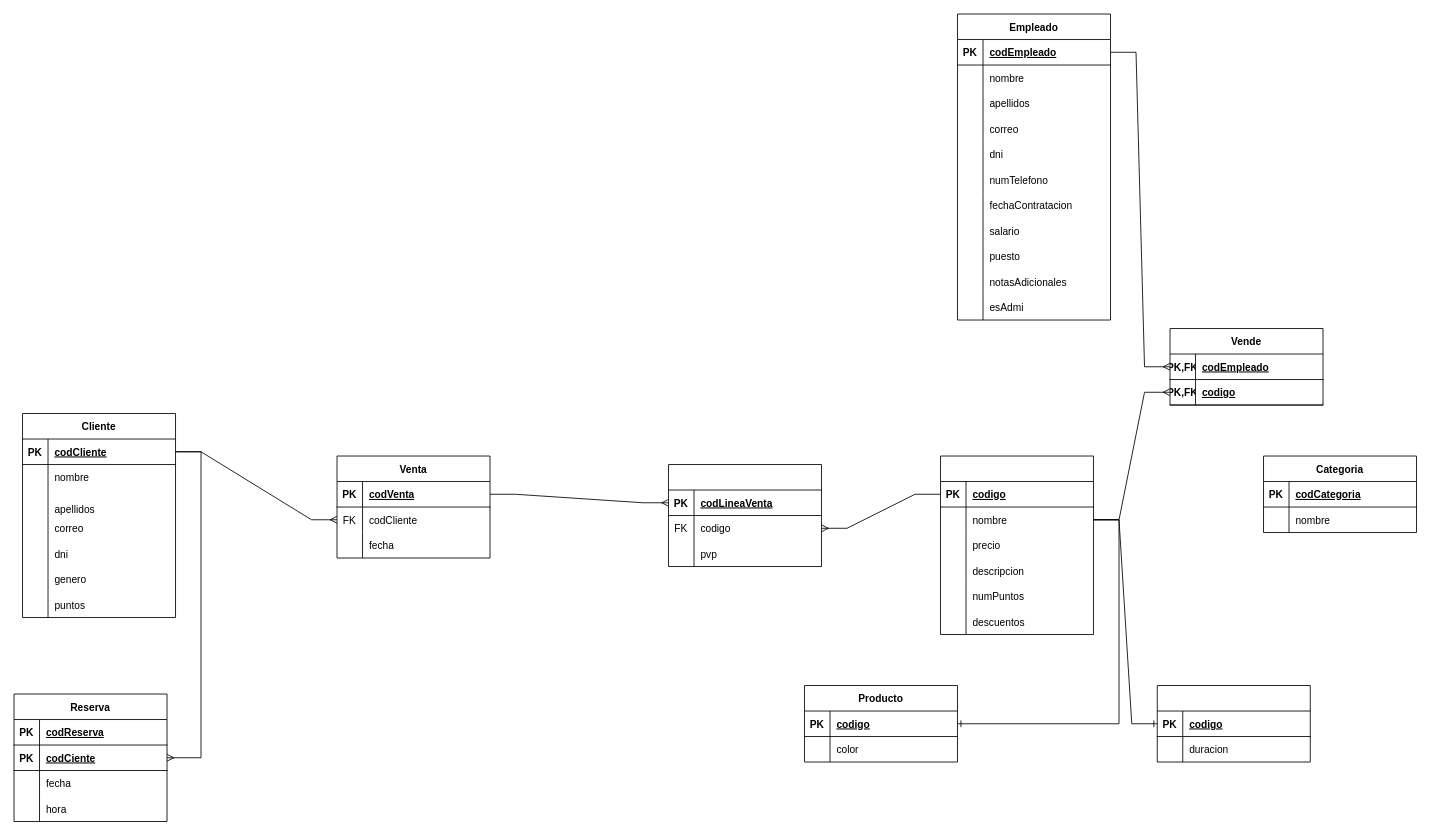
This 1431x836 diagram has some shape labels left out. Here are the shapes that lost their labels. From the top down, the box of each, then its label:
(668, 464, 822, 567): LienaVenta
(940, 455, 1094, 635): Vendible
(1156, 685, 1310, 762): Servicio
